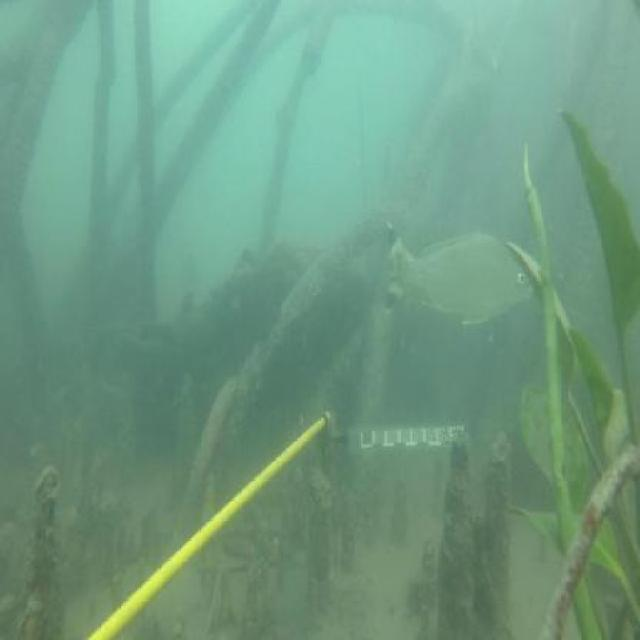Amniataba_caudivittatus: (380, 210, 538, 332)
